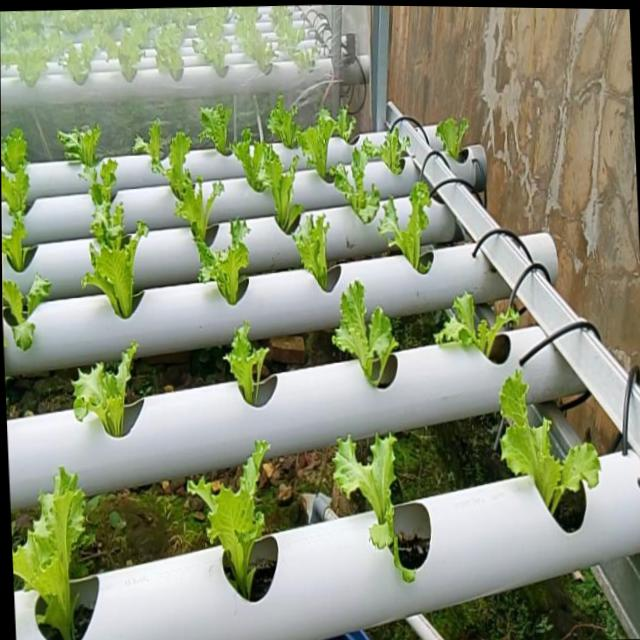Baby: (506, 367, 608, 511), (12, 467, 89, 640), (190, 438, 272, 598), (338, 432, 421, 581), (336, 276, 402, 383), (156, 153, 228, 245), (76, 341, 140, 436), (440, 285, 529, 350), (248, 140, 308, 234), (382, 177, 436, 270), (190, 97, 248, 181), (90, 235, 143, 319), (333, 140, 385, 223), (301, 105, 359, 178), (6, 274, 55, 352), (228, 319, 271, 402), (94, 179, 134, 267), (214, 219, 252, 304), (296, 212, 335, 289), (367, 119, 415, 173), (4, 138, 34, 219), (136, 120, 173, 176), (61, 125, 104, 168), (270, 94, 303, 148), (440, 112, 473, 153)
